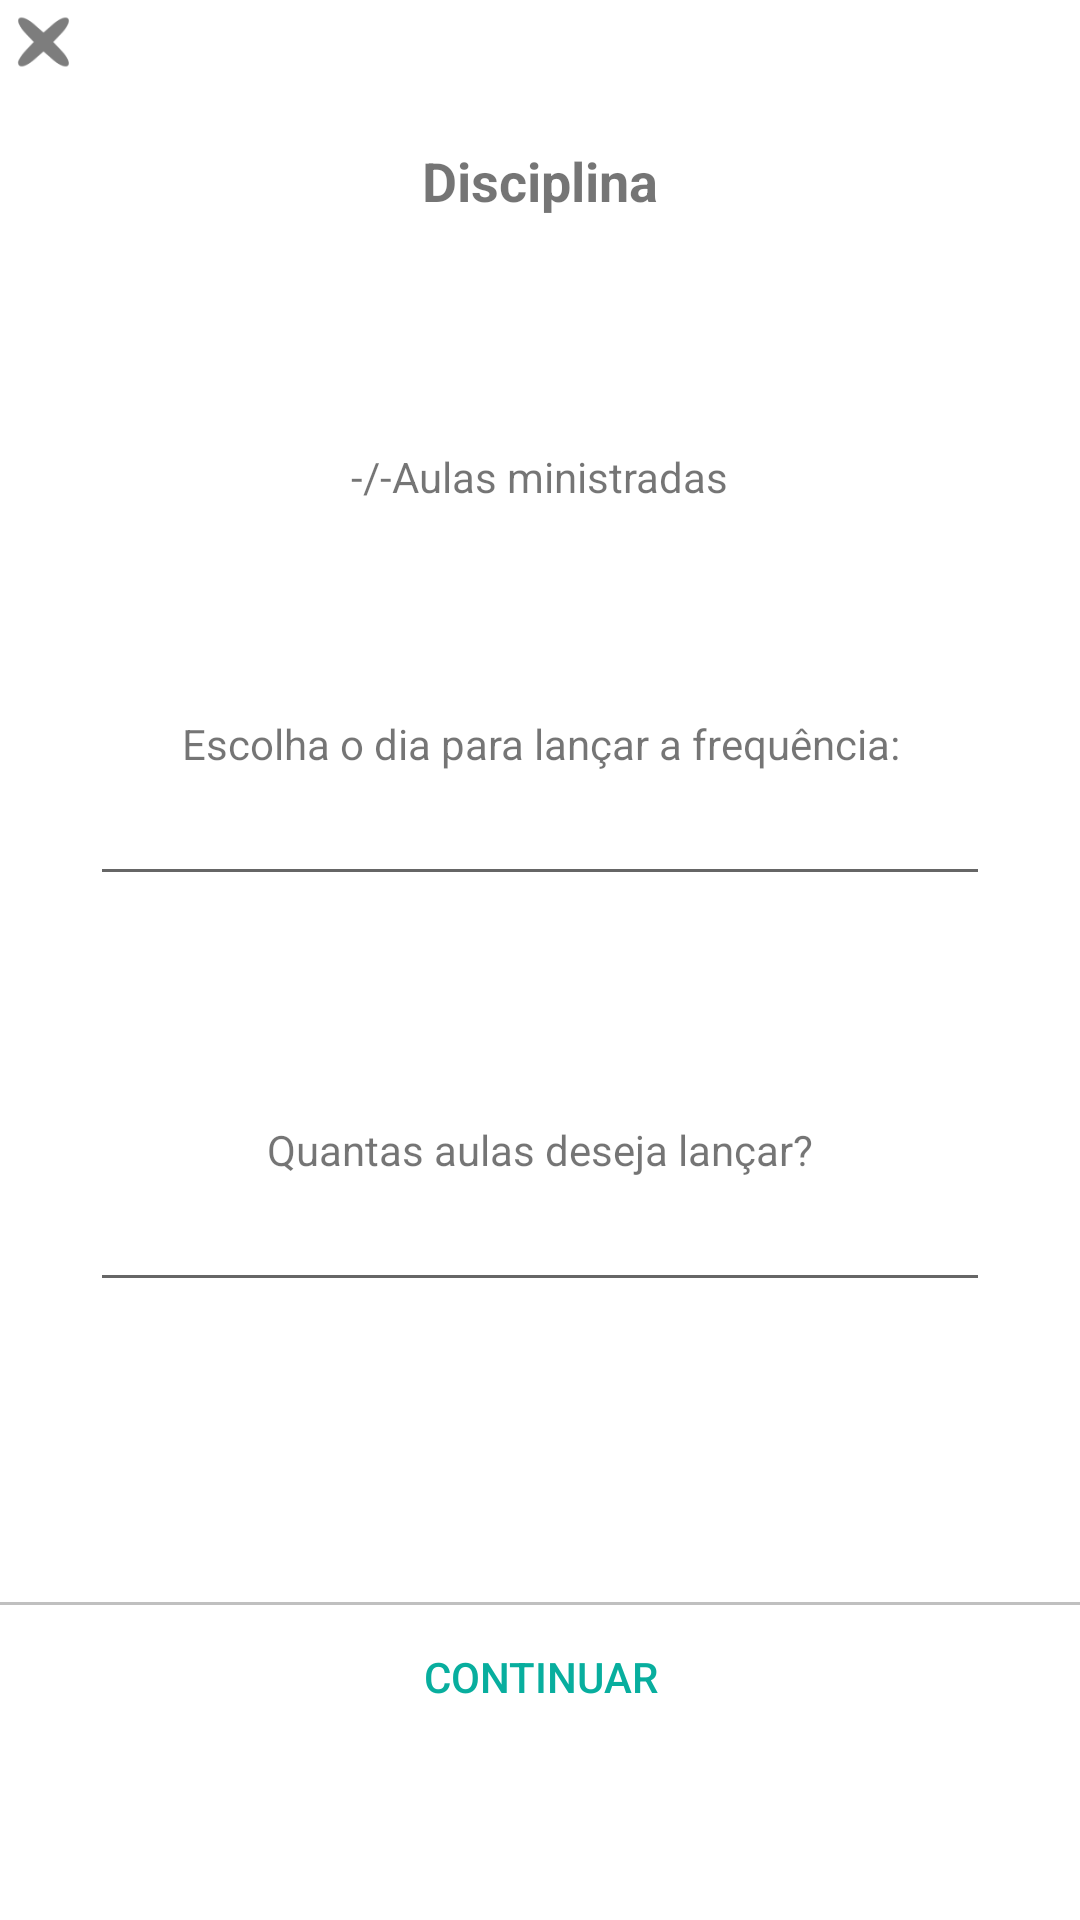

Locate icon controls on the screen. Image size 1080*1920, boxes as (x1, y1, x2, y2).
fechar modal: (18, 17, 69, 67)
